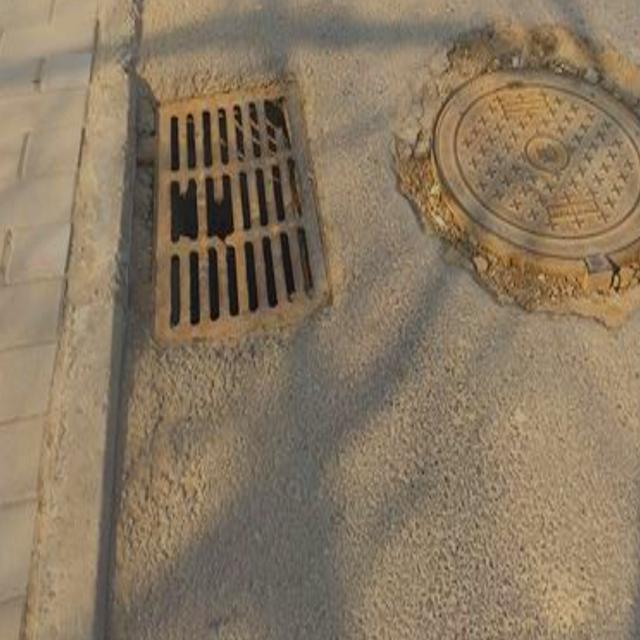circle: (383, 0, 640, 339)
